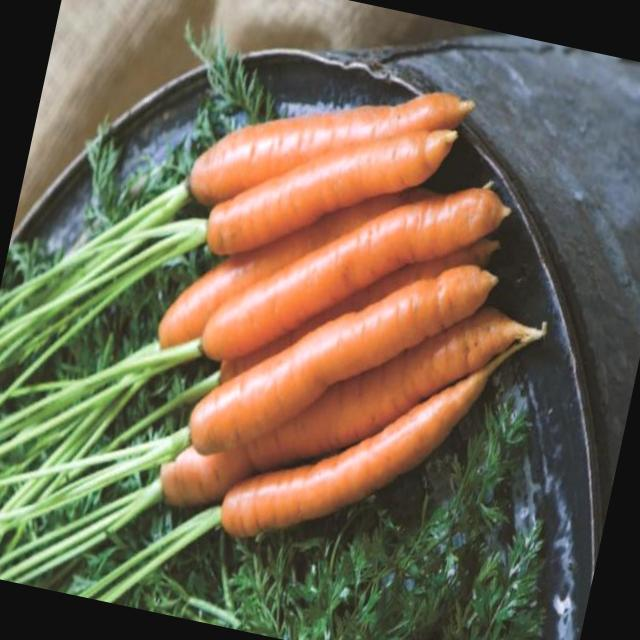carrot: (185, 261, 492, 452), (203, 180, 502, 356), (215, 365, 490, 551), (189, 93, 474, 204), (208, 126, 464, 248)
